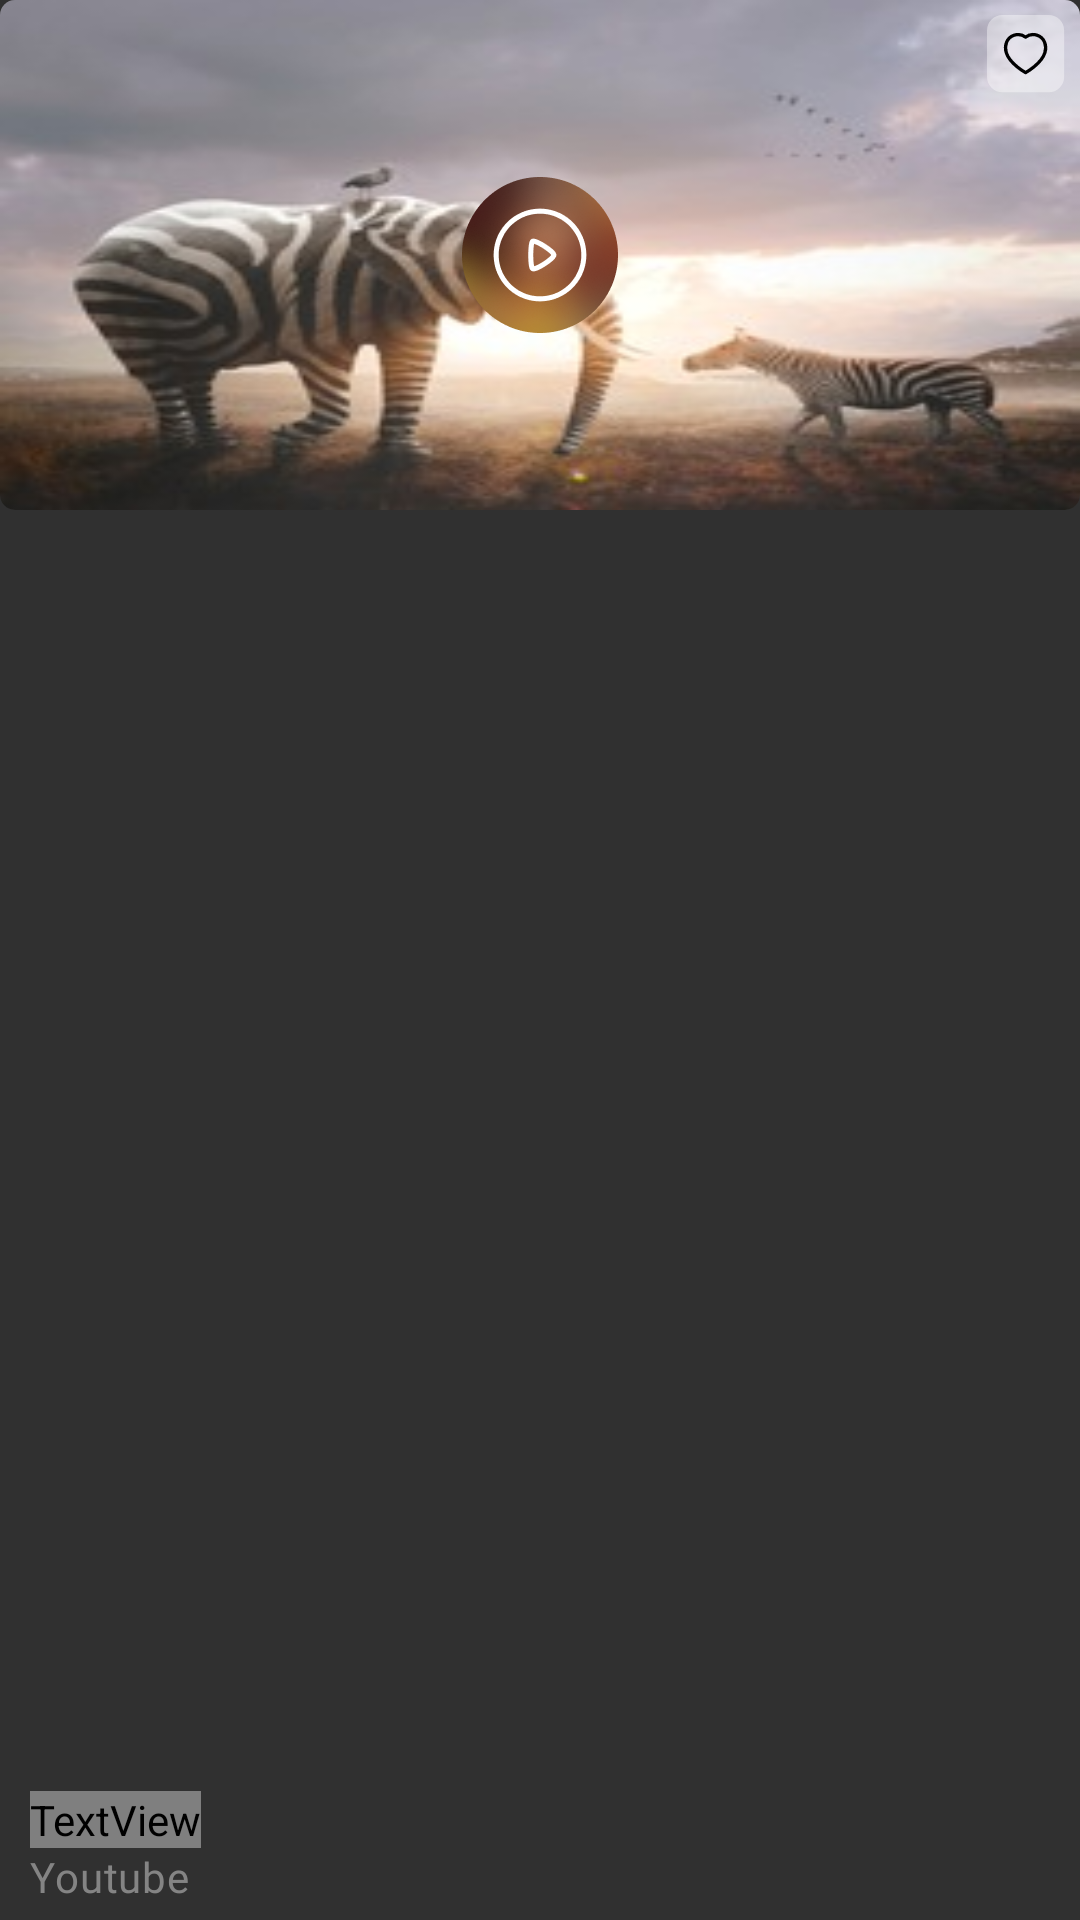

Where to tap for icons on this 1080px x 1920px app screen, as (x=x, y=y):
blank fav: (x=1025, y=54)
player: (x=540, y=255)
